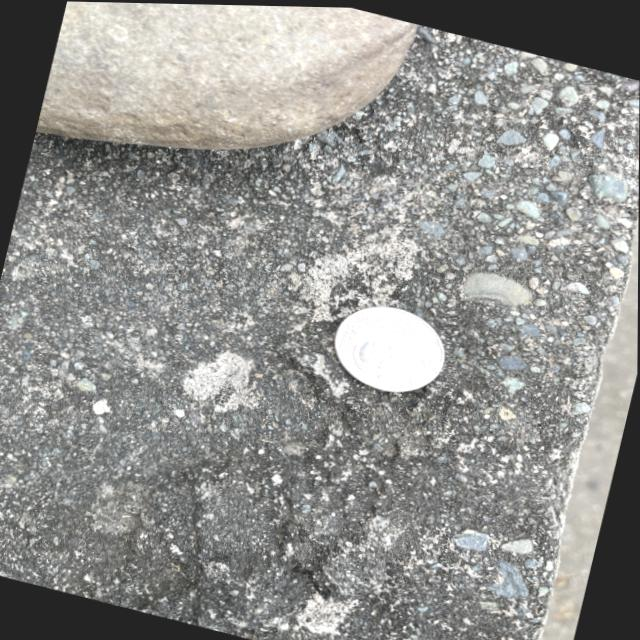10_New_Front: (371, 301, 426, 338)
